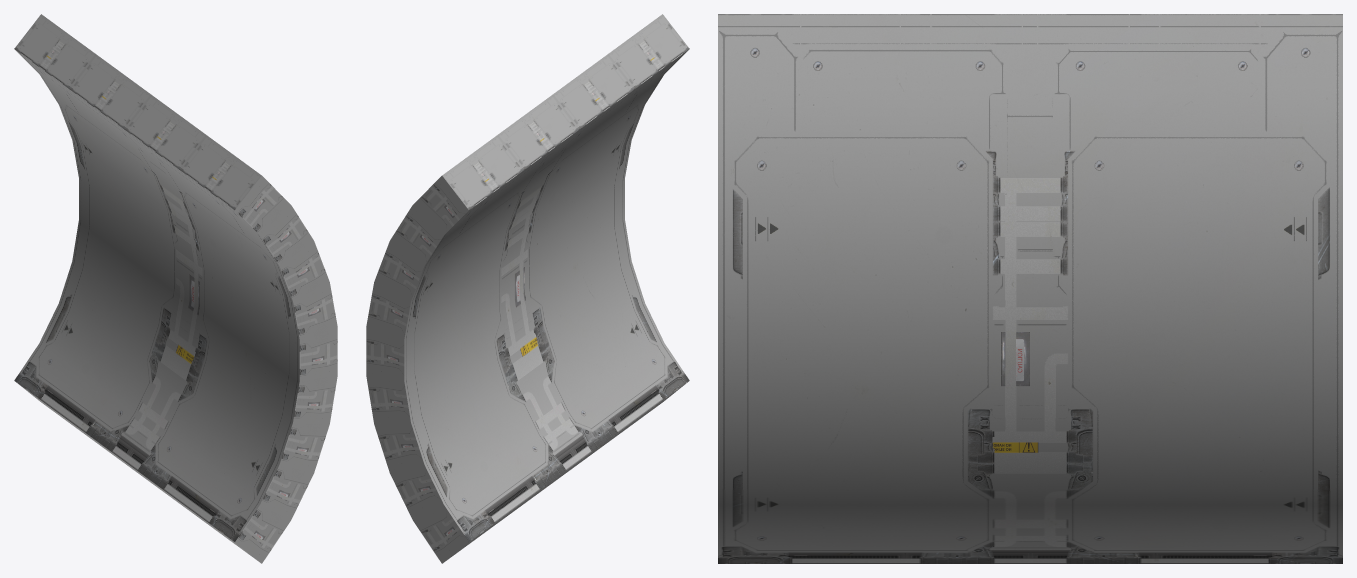
The model's file is SM_Walls_CURVED05.fbx.
3 views of the same model, side by side, from view 1: azimuth 30°, elevation 25°; view 2: azimuth 150°, elevation 25°; view 3: azimuth 270°, elevation 25° (orthographic). The views are drawn at different scales.
Visible parts, largest first — view 1: SM_Walls_CURVED05_LOD0; view 2: SM_Walls_CURVED05_LOD0; view 3: SM_Walls_CURVED05_LOD0.
Part boxes in pixels (box(x1,y1,x2,y2)): SM_Walls_CURVED05_LOD0: box(14, 14, 337, 563); SM_Walls_CURVED05_LOD0: box(366, 14, 689, 563); SM_Walls_CURVED05_LOD0: box(718, 14, 1342, 563).
Size of the model in its own units: 108 by 400 by 388.
